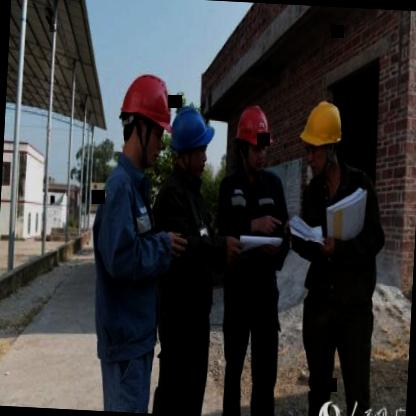helmet: (112, 69, 177, 174), (294, 93, 350, 178), (165, 99, 214, 176), (231, 99, 275, 178)
